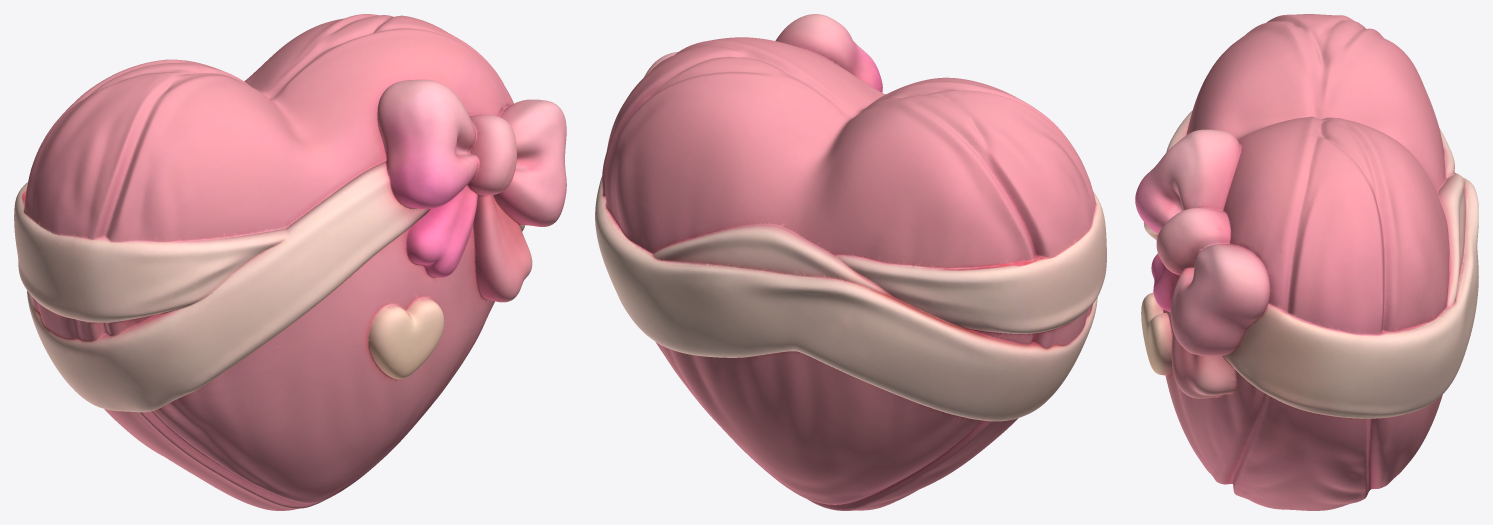
The model's file is Meshy_AI_Bandaged_Pink_Heart_w_0601104208_texture.fbx.
3 renders of one model, left to right at view 1: azimuth 30°, elevation 25°; view 2: azimuth 150°, elevation 25°; view 3: azimuth 270°, elevation 25°, orthographic. The views are drawn at different scales.
Parts seen in each view (by area): view 1: Mesh_0; view 2: Mesh_0; view 3: Mesh_0.
Boxes of the visible parts, x1,y1,x2,y2 form: Mesh_0: [14, 14, 566, 510]; Mesh_0: [595, 14, 1106, 510]; Mesh_0: [1135, 14, 1478, 510].
Bounding box in the file's own units: 190 × 165 × 120.
1 material, 1 textured.
